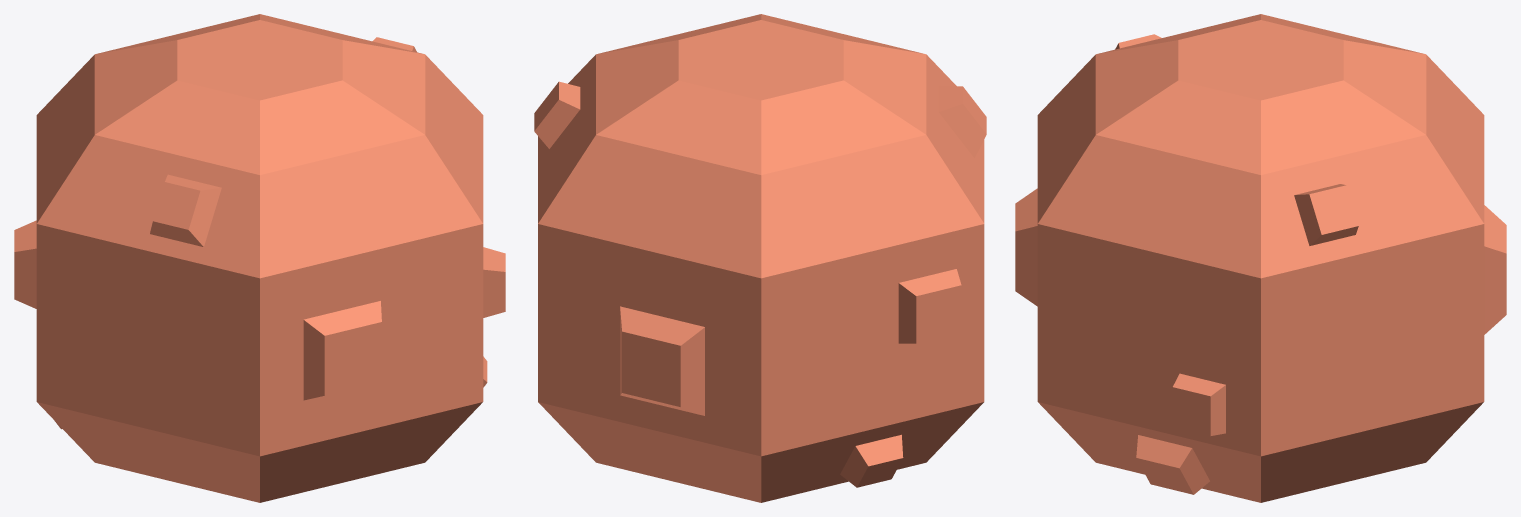
The model's file is meteor_detailed.obj.
3 renders of one model, left to right at view 1: azimuth 30°, elevation 25°; view 2: azimuth 150°, elevation 25°; view 3: azimuth 270°, elevation 25°, orthographic.
Visible parts, largest first — view 1: meteor_detailed; view 2: meteor_detailed; view 3: meteor_detailed.
Boxes of the visible parts, left/top/right/bottom form: meteor_detailed: left=14, top=14, right=505, bottom=502; meteor_detailed: left=534, top=14, right=986, bottom=502; meteor_detailed: left=1015, top=14, right=1506, bottom=502.
Size of the model in its own units: 0.866 by 0.735 by 0.825.
